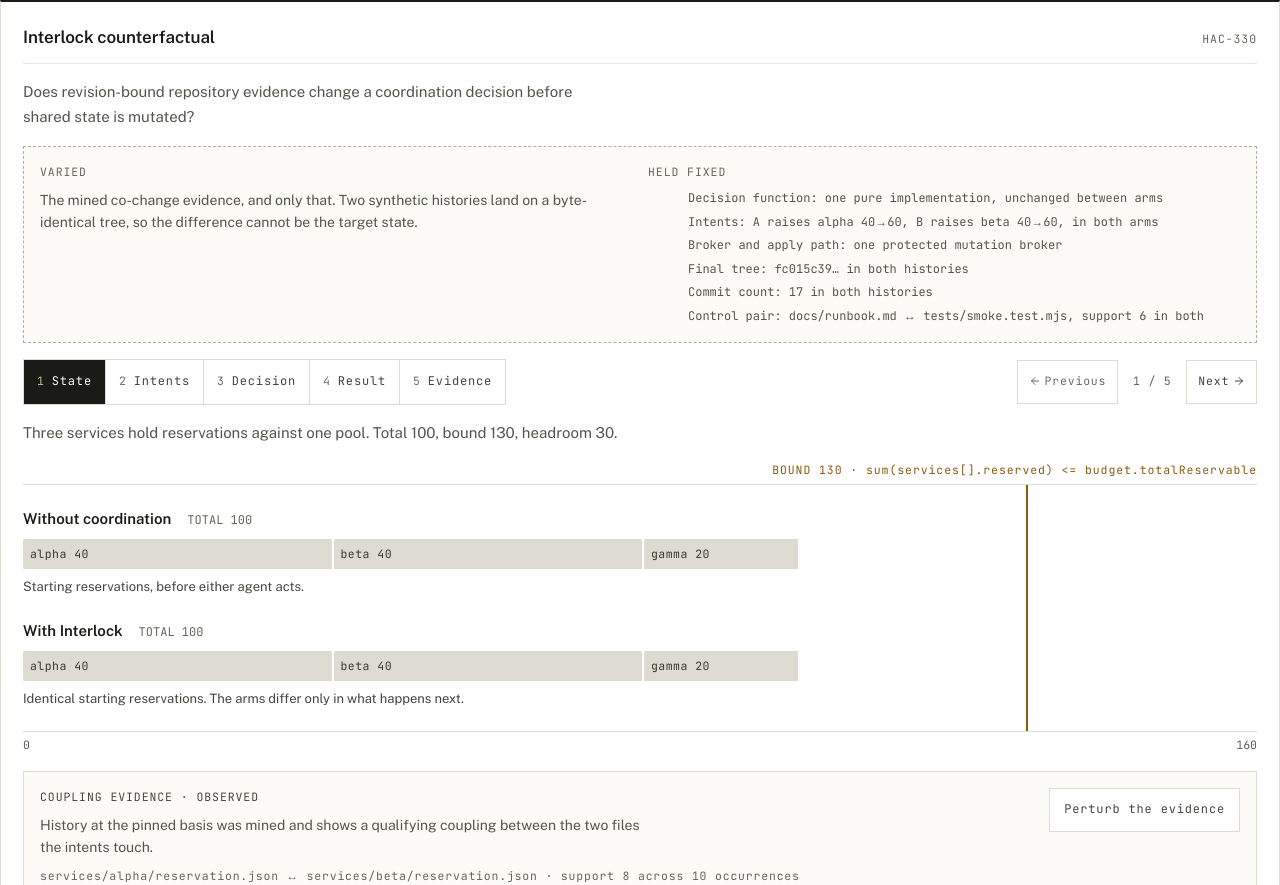
InterlockCounterfactual › restores the original decision when the perturbation is undone
Click the button "Perturb the evidence" at (1145, 810), box [1049,788,1240,832]
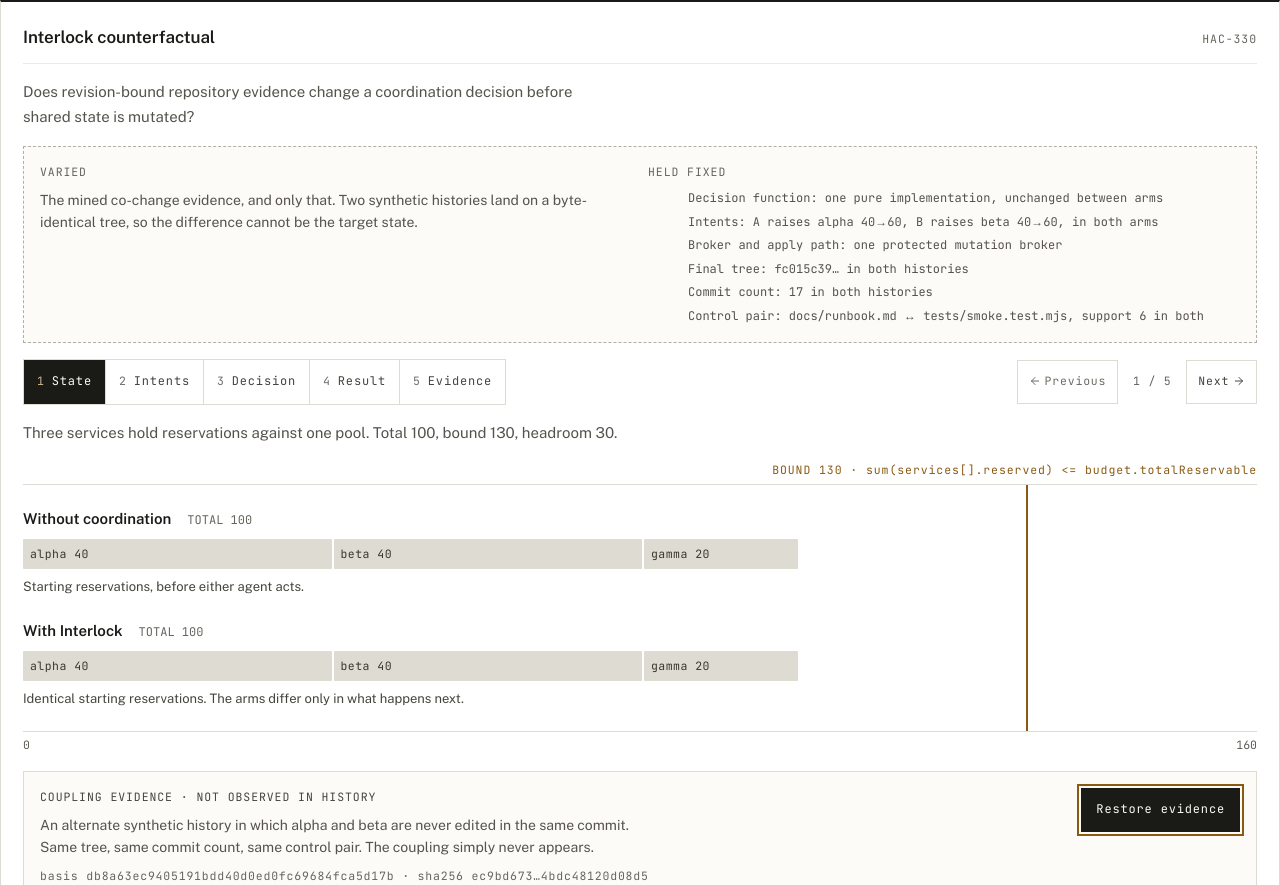
Result: the button named "Perturb the evidence" is pressed
Click the button "Restore evidence" at (1161, 810), box [1081,788,1240,832]
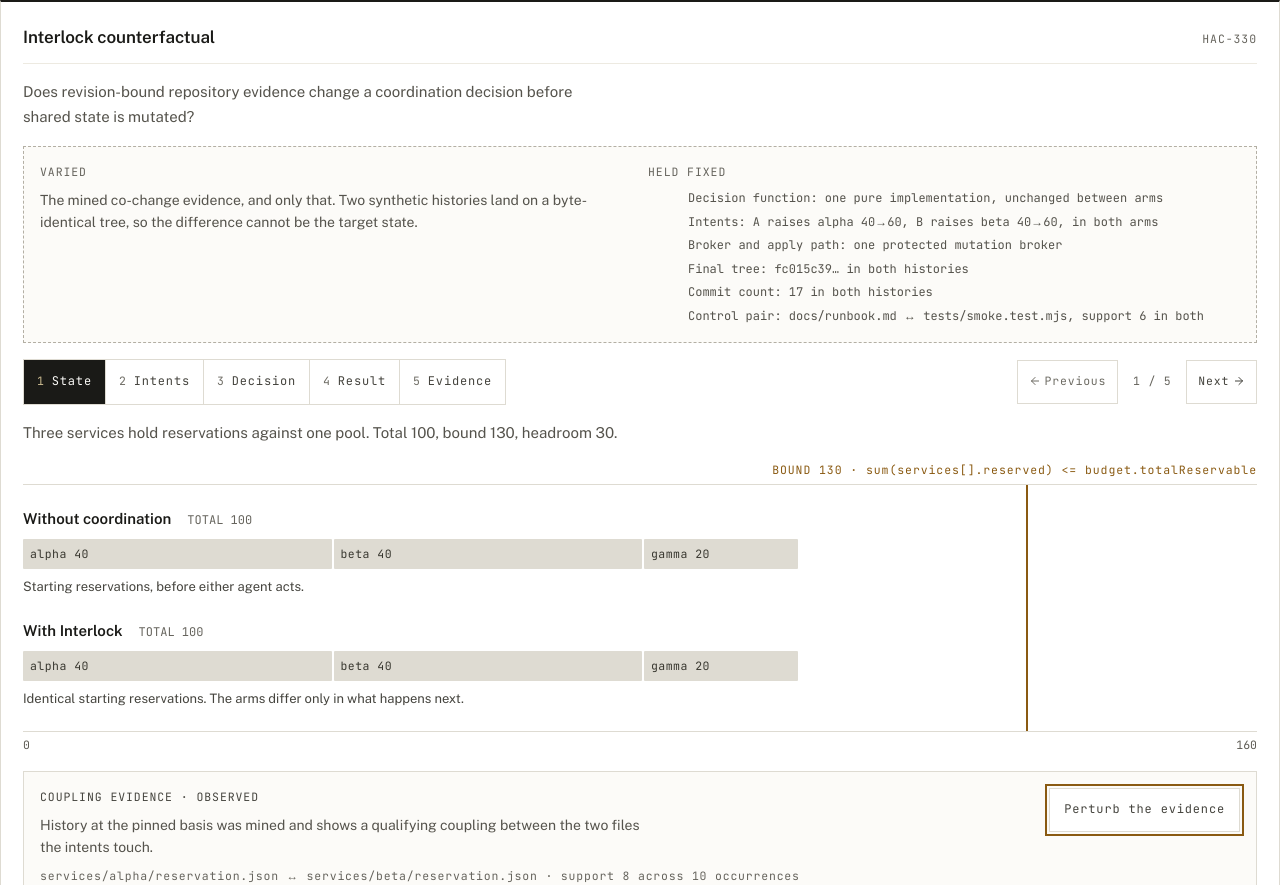
Click the button "4 Result" at (354, 382), box [309,360,399,404]
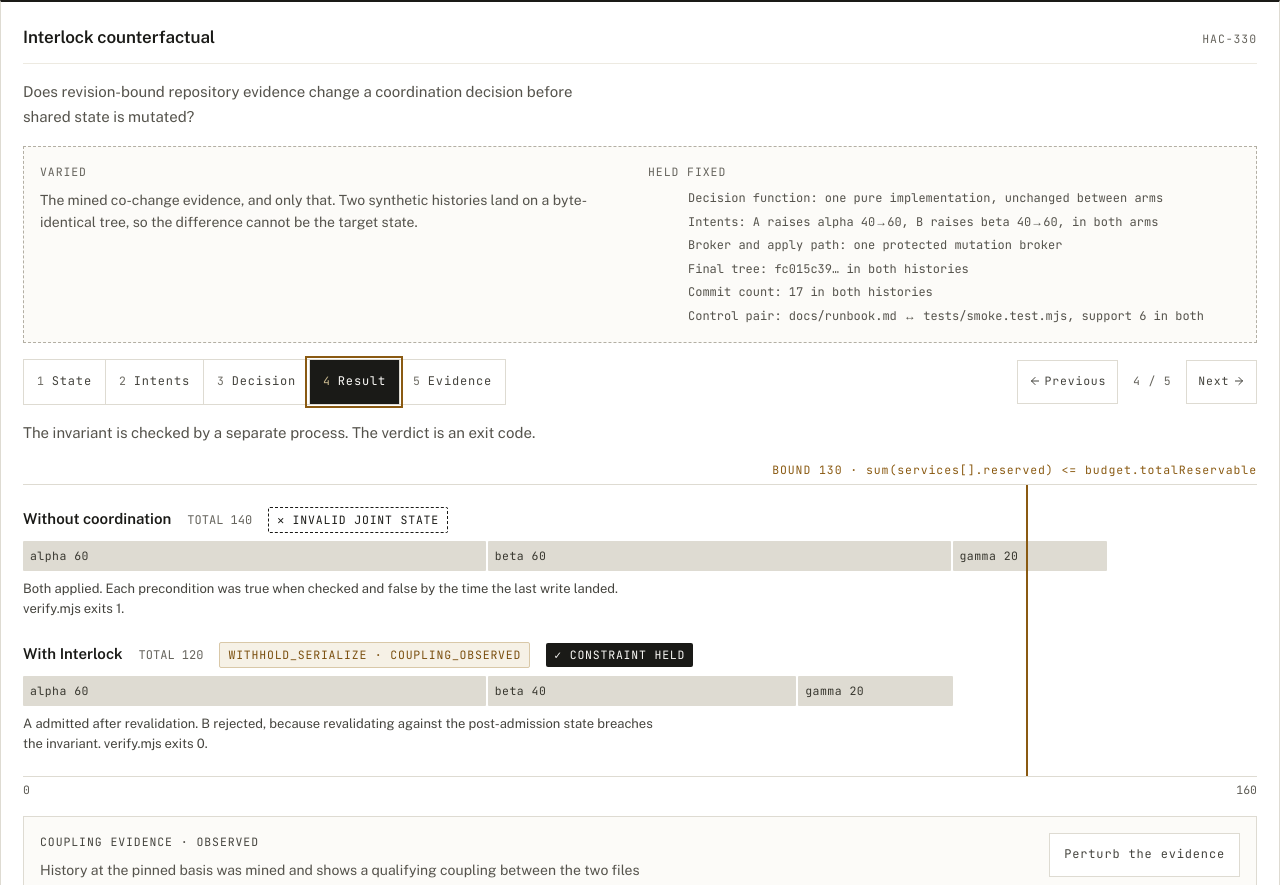
Result: the text "CONSTRAINT HELD" is shown at [570,646,685,662]
